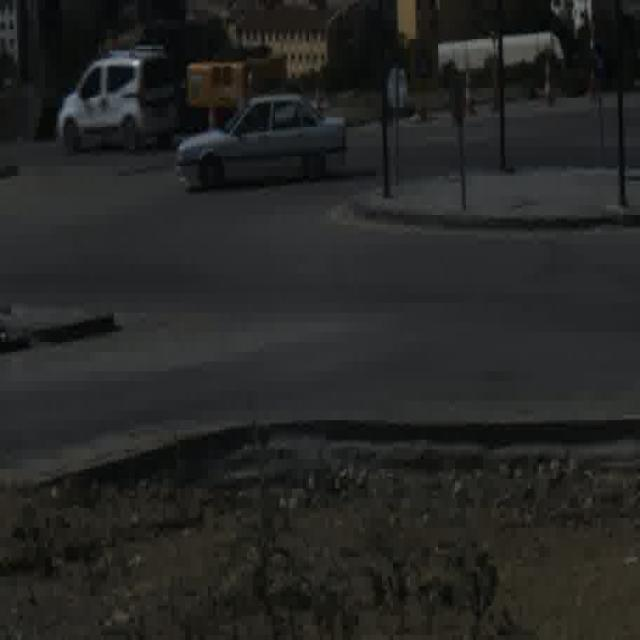Car: (176, 94, 347, 186), (57, 38, 177, 156)
